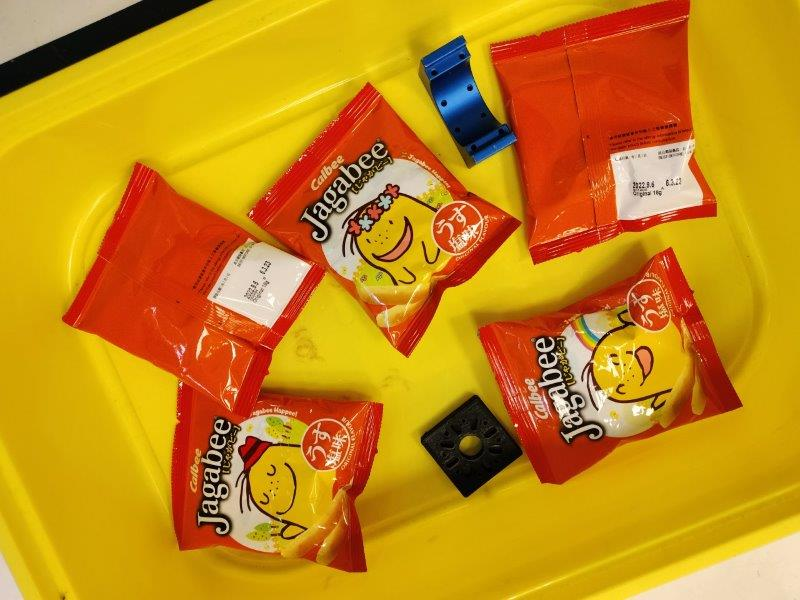Jagabee: (245, 84, 522, 355), (62, 162, 325, 416), (478, 248, 744, 485), (490, 1, 718, 265), (169, 383, 382, 574)
